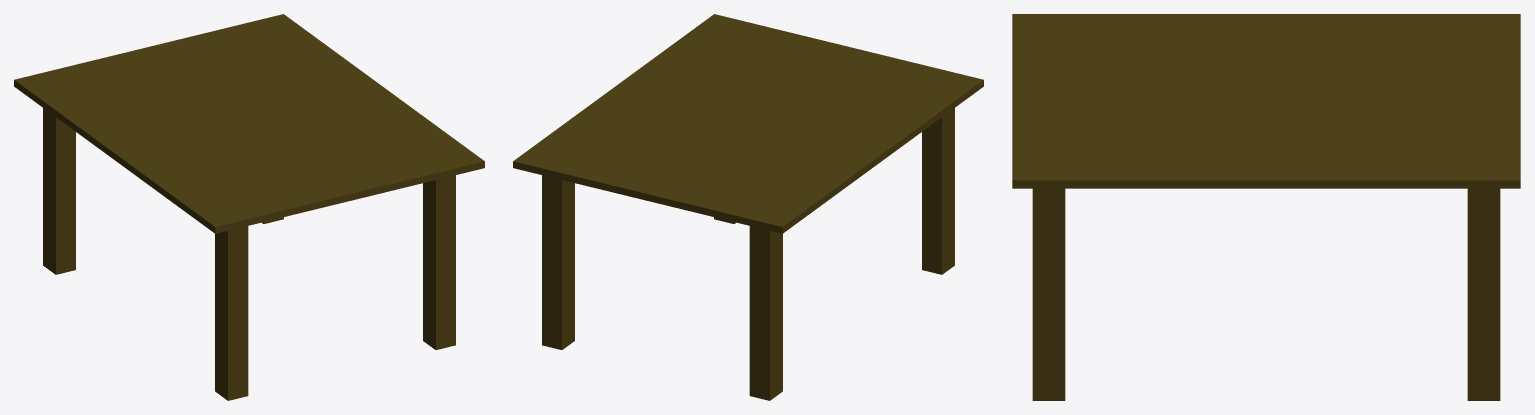
Rendered from TableBase.fbx.
3 renders of one model, left to right at view 1: azimuth 30°, elevation 25°; view 2: azimuth 150°, elevation 25°; view 3: azimuth 270°, elevation 25°, orthographic. The views are drawn at different scales.
Visible parts, largest first — view 1: Table; view 2: Table; view 3: Table.
Part boxes in pixels (x1=…): Table: x1=14, y1=14, x2=484, y2=400; Table: x1=513, y1=14, x2=983, y2=400; Table: x1=1012, y1=14, x2=1520, y2=400.
Size of the model in its own units: 120 by 78.65 by 155.
